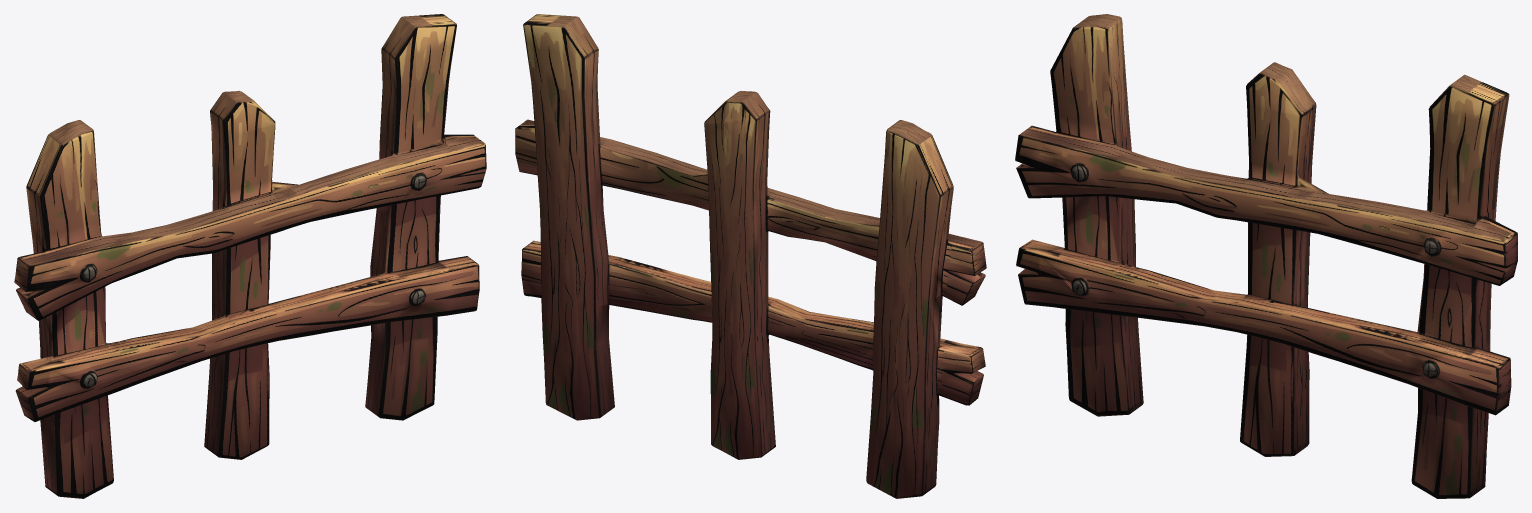
The model's file is prop_fence_v1.glb.
3 renders of one model, left to right at view 1: azimuth 30°, elevation 25°; view 2: azimuth 150°, elevation 25°; view 3: azimuth 330°, elevation 25°, orthographic. The views are drawn at different scales.
Bounding box in the file's own units: 1.91 × 1.55 × 0.184.
1 material, 1 textured.
